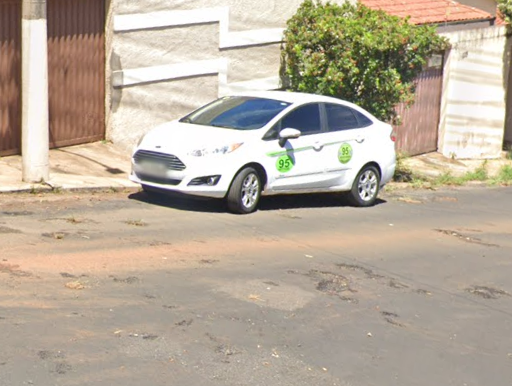car: (123, 87, 408, 215)
